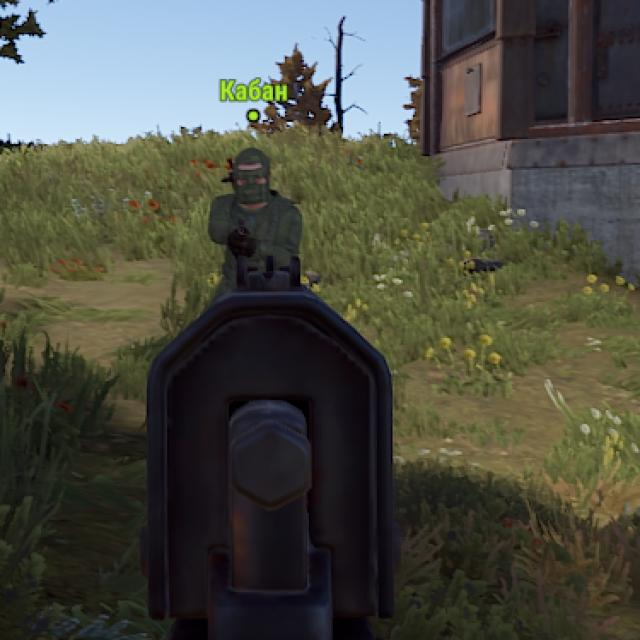Player: (210, 150, 304, 252)
